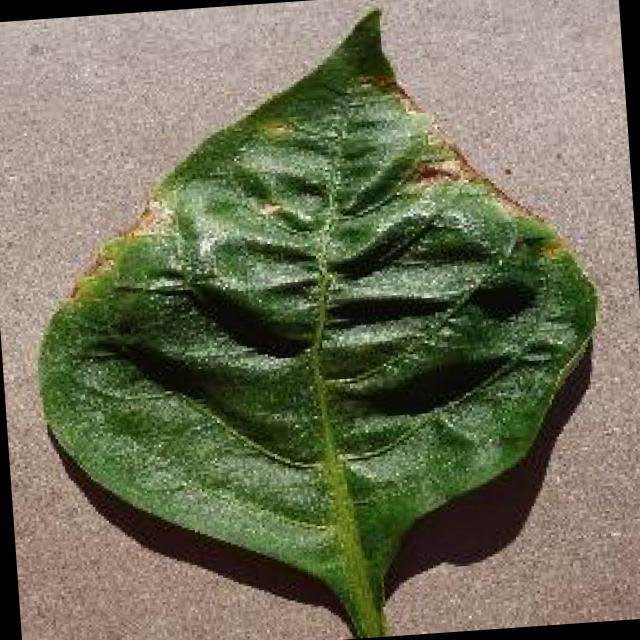Chilli_Bacterial_Spot: (9, 0, 624, 640), (406, 152, 464, 191), (256, 111, 296, 144), (251, 192, 285, 222)
